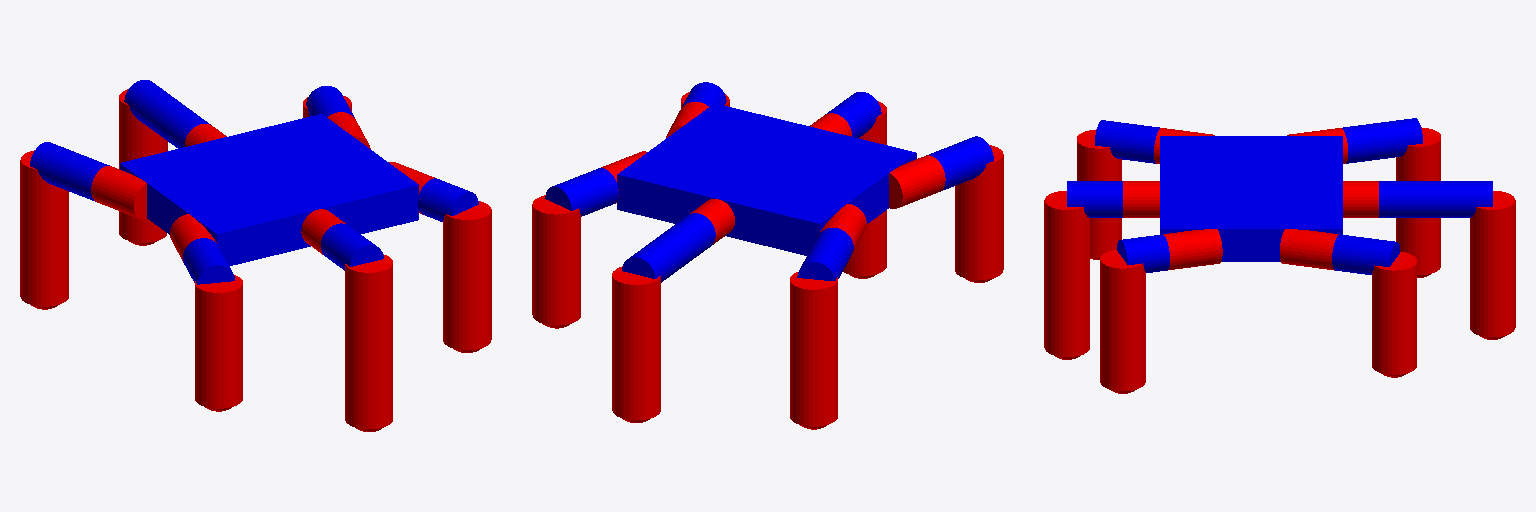
--- Facts derived from the render (not from the file) ---
Views: 3 orthographic renders of the robot side by side, from view 1: azimuth 30°, elevation 25°; view 2: azimuth 150°, elevation 25°; view 3: azimuth 270°, elevation 25°.
Model pexod with 19 links and 18 joints (18 revolute), rooted at base_link, posed all joints at 0.
Visible links, largest first — view 1: base_link, leg_4_3, leg_3_3, leg_0_3, leg_5_3, leg_1_3, leg_1_2, leg_0_2, leg_0_1, leg_4_2, leg_3_2, leg_5_2 (+5 smaller); view 2: base_link, leg_1_3, leg_0_3, leg_2_3, leg_5_3, leg_1_2, leg_4_3, leg_2_2, leg_5_1, leg_0_2, leg_5_2, leg_4_2 (+5 smaller); view 3: base_link, leg_4_3, leg_1_3, leg_3_3, leg_2_3, leg_1_2, leg_0_3, leg_5_3, leg_0_2, leg_2_2, leg_5_2, leg_3_1 (+5 smaller).
Link boxes in pixels (x1,y1,x2,y2): base_link: (120,114,418,265); leg_4_3: (345,254,392,431); leg_3_3: (443,201,491,352); leg_0_3: (20,150,68,309); leg_5_3: (195,275,242,411); leg_1_3: (119,89,167,245); leg_1_2: (124,80,210,148); leg_0_2: (30,142,109,201); leg_0_1: (91,166,146,219); leg_4_2: (321,223,383,270); leg_3_2: (418,178,478,221); leg_5_2: (183,238,234,284); base_link: (617,103,916,255); leg_1_3: (612,266,660,422); leg_0_3: (790,272,837,429); leg_2_3: (532,195,580,328); leg_5_3: (955,145,1003,282); leg_1_2: (622,213,715,282); leg_4_3: (843,101,886,278); leg_2_2: (545,168,618,216); leg_5_1: (889,155,945,208); leg_0_2: (797,228,853,280); leg_5_2: (926,136,993,191); leg_4_2: (825,92,881,137); base_link: (1160,136,1342,261); leg_4_3: (1044,191,1089,359); leg_1_3: (1470,191,1515,339); leg_3_3: (1100,250,1145,393); leg_2_3: (1372,252,1416,377); leg_1_2: (1379,181,1492,217); leg_0_3: (1396,127,1440,277); leg_5_3: (1077,129,1121,259); leg_0_2: (1342,118,1422,163); leg_2_2: (1332,234,1399,274); leg_5_2: (1095,120,1159,163); leg_3_1: (1163,229,1222,270).
Bounding box of the posed robot: 0.37 × 0.5146 × 0.2101 m (x, y, z).
Geometry: primitives only (box / cylinder / sphere), no mesh files.

robot.urdf — pexod:
<?xml version="1.0" ?>
<!-- =================================================================================== -->
<!-- |    This document was autogenerated by xacro from pexod.xacro                    | -->
<!-- |    EDITING THIS FILE BY HAND IS NOT RECOMMENDED                                 | -->
<!-- =================================================================================== -->
<robot name="pexod" xmlns:xacro="http://www.ros.org/wiki/xacro">
  <!-- <xacro:include filename="$(find pexod_description)/urdf/pexod_control.xacro" /> -->
  <!-- MATERIALS -->
  <material name="Blue">
    <color rgba="0 0 1 1"/>
  </material>
  <material name="Red">
    <color rgba="1 0 0 1"/>
  </material>
  <material name="Green">
    <color rgba="0 1 0 1"/>
  </material>
  <material name="Yellow">
    <color rgba="1 1 0 1"/>
  </material>
  <material name="LightGrey">
    <color rgba="0.6 0.6 0.6 1.0"/>
  </material>
  <!-- END OF MATERIALS -->
  <!-- XACRO MACROS FOR VISUALS AND COLLISIONS -->
  <!-- END OF XACRO MACROS -->
  <!-- TORSO -->
  <link name="base_link">
    <visual>
      <origin rpy="0 0 0" xyz="0 0 0"/>
      <geometry>
        <box size="0.24 0.2 0.04"/>
      </geometry>
      <material name="Blue"/>
    </visual>
    <collision>
      <origin rpy="0 0 0" xyz="0 0 0"/>
      <geometry>
        <box size="0.24 0.2 0.04"/>
      </geometry>
    </collision>
    <inertial>
      <!-- CENTER OF MASS -->
      <origin rpy="0 0 0" xyz="0 0 0"/>
      <mass value="1.031"/>
      <!-- box inertia: 1/12*m(y^2+z^2), ... -->
      <inertia ixx="0.00357413333333" ixy="0" ixz="0" iyy="0.00508626666667" iyz="0" izz="0.00838546666667"/>
    </inertial>
  </link>
  <!-- XACRO MACRO FOR LEGS LINKS/JOINTS -->
  <!-- END OF LEG LINKS/JOINTS -->
  <joint name="body_leg_2" type="revolute">
    <parent link="base_link"/>
    <child link="leg_2_1"/>
    <limit effort="30.0" lower="-1.57079632679" upper="1.57079632679" velocity="7.0"/>
    <origin rpy="0 0 -0.3" xyz="0.11 0.04 0"/>
    <!-- <xacro:if value="${index == 5 or index == 4 or index == 3}">
                <axis xyz="0 0 1"/>
            </xacro:if>
            <xacro:if value="${index == 2 or index == 1 or index == 0}"> -->
    <axis xyz="0 0 1"/>
    <!-- </xacro:if> -->
    <dynamics damping="0.0"/>
  </joint>
  <link name="leg_2_1">
    <visual>
      <origin rpy="1.57079632679 0 0" xyz="0.01 0.03 0"/>
      <geometry>
        <cylinder length="0.06" radius="0.02"/>
      </geometry>
      <material name="Red"/>
    </visual>
    <collision>
      <origin rpy="1.57079632679 0 0" xyz="0.01 0.03 0"/>
      <geometry>
        <box size="0.02 0.02 0.06"/>
      </geometry>
    </collision>
    <inertial>
      <!-- CENTER OF MASS -->
      <origin rpy="1.57079632679 0 0" xyz="0.01 0.03 0"/>
      <mass value="0.02"/>
      <!-- box inertia: 1/12*m(y^2+z^2), ... -->
      <inertia ixx="6.66666666667e-06" ixy="0" ixz="0" iyy="6.66666666667e-06" iyz="0" izz="1.33333333333e-06"/>
    </inertial>
  </link>
  <joint name="leg_2_1_2" type="revolute">
    <parent link="leg_2_1"/>
    <child link="leg_2_2"/>
    <limit effort="30.0" lower="-0.78539816339" upper="0.78539816339" velocity="7.0"/>
    <origin rpy="0 0 0" xyz="0 0.06 0"/>
    <axis xyz="1 0 0"/>
    <dynamics damping="0.0"/>
  </joint>
  <link name="leg_2_2">
    <visual>
      <origin rpy="1.57079632679 0 0" xyz="0.01 0.0328906883471 0"/>
      <geometry>
        <cylinder length="0.0657813766942" radius="0.02"/>
      </geometry>
      <material name="Blue"/>
    </visual>
    <collision>
      <origin rpy="1.57079632679 0 0" xyz="0.01 0.0328906883471 0"/>
      <geometry>
        <box size="0.02 0.02 0.0657813766942"/>
      </geometry>
    </collision>
    <inertial>
      <!-- CENTER OF MASS -->
      <origin rpy="1.57079632679 0 0" xyz="0.01 0.0328906883471 0"/>
      <mass value="0.184"/>
      <!-- box inertia: 1/12*m(y^2+z^2), ... -->
      <inertia ixx="7.24835726367e-05" ixy="0" ixz="0" iyy="7.24835726367e-05" iyz="0" izz="1.22666666667e-05"/>
    </inertial>
  </link>
  <joint name="leg_2_2_3" type="revolute">
    <parent link="leg_2_2"/>
    <child link="leg_2_3"/>
    <limit effort="30.0" lower="-0.78539816339" upper="0.78539816339" velocity="7.0"/>
    <origin rpy="-1.57079632679 0 0" xyz="0 0.0657813766942 0"/>
    <axis xyz="-1 0 0"/>
    <dynamics damping="0.0"/>
  </joint>
  <link name="leg_2_3">
    <visual>
      <origin rpy="1.57079632679 0 0" xyz="0.0125 0.062939598653 0"/>
      <geometry>
        <cylinder length="0.125879197306" radius="0.025"/>
      </geometry>
      <material name="Red"/>
    </visual>
    <visual>
      <origin rpy="1.57079632679 0 0" xyz="0.0125 0.113379197306 0"/>
      <geometry>
        <sphere radius="0.025"/>
      </geometry>
      <material name="Red"/>
    </visual>
    <collision>
      <origin rpy="1.57079632679 0 0" xyz="0.0125 0.062939598653 0"/>
      <geometry>
        <box size="0.025 0.025 0.125879197306"/>
      </geometry>
    </collision>
    <collision>
      <origin rpy="1.57079632679 0 0" xyz="0.0125 0.113379197306 0"/>
      <geometry>
        <sphere radius="0.025"/>
      </geometry>
      <material name="Red"/>
    </collision>
    <inertial>
      <!-- CENTER OF MASS -->
      <origin rpy="1.57079632679 0 0" xyz="0.0125 0.062939598653 0"/>
      <mass value="0.04"/>
      <!-- box inertia: 1/12*m(y^2+z^2), ... -->
      <inertia ixx="5.49019077147e-05" ixy="0" ixz="0" iyy="5.49019077147e-05" iyz="0" izz="4.16666666667e-06"/>
    </inertial>
  </link>
  <joint name="body_leg_3" type="revolute">
    <parent link="base_link"/>
    <child link="leg_3_1"/>
    <limit effort="30.0" lower="-1.57079632679" upper="1.57079632679" velocity="7.0"/>
    <origin rpy="0 0 0.3" xyz="0.11 -0.04 0"/>
    <!-- <xacro:if value="${index == 5 or index == 4 or index == 3}">
                <axis xyz="0 0 1"/>
            </xacro:if>
            <xacro:if value="${index == 2 or index == 1 or index == 0}"> -->
    <axis xyz="0 0 1"/>
    <!-- </xacro:if> -->
    <dynamics damping="0.0"/>
  </joint>
  <link name="leg_3_1">
    <visual>
      <origin rpy="1.57079632679 0 0" xyz="0.01 -0.03 0"/>
      <geometry>
        <cylinder length="0.06" radius="0.02"/>
      </geometry>
      <material name="Red"/>
    </visual>
    <collision>
      <origin rpy="1.57079632679 0 0" xyz="0.01 -0.03 0"/>
      <geometry>
        <box size="0.02 0.02 0.06"/>
      </geometry>
    </collision>
    <inertial>
      <!-- CENTER OF MASS -->
      <origin rpy="1.57079632679 0 0" xyz="0.01 -0.03 0"/>
      <mass value="0.02"/>
      <!-- box inertia: 1/12*m(y^2+z^2), ... -->
      <inertia ixx="6.66666666667e-06" ixy="0" ixz="0" iyy="6.66666666667e-06" iyz="0" izz="1.33333333333e-06"/>
    </inertial>
  </link>
  <joint name="leg_3_1_2" type="revolute">
    <parent link="leg_3_1"/>
    <child link="leg_3_2"/>
    <limit effort="30.0" lower="-0.78539816339" upper="0.78539816339" velocity="7.0"/>
    <origin rpy="0 0 0" xyz="0 -0.06 0"/>
    <axis xyz="-1 0 0"/>
    <dynamics damping="0.0"/>
  </joint>
  <link name="leg_3_2">
    <visual>
      <origin rpy="1.57079632679 0 0" xyz="0.01 -0.02420674394 0"/>
      <geometry>
        <cylinder length="0.0484134878801" radius="0.02"/>
      </geometry>
      <material name="Blue"/>
    </visual>
    <collision>
      <origin rpy="1.57079632679 0 0" xyz="0.01 -0.02420674394 0"/>
      <geometry>
        <box size="0.02 0.02 0.0484134878801"/>
      </geometry>
    </collision>
    <inertial>
      <!-- CENTER OF MASS -->
      <origin rpy="1.57079632679 0 0" xyz="0.01 -0.02420674394 0"/>
      <mass value="0.184"/>
      <!-- box inertia: 1/12*m(y^2+z^2), ... -->
      <inertia ixx="4.2072609067e-05" ixy="0" ixz="0" iyy="4.2072609067e-05" iyz="0" izz="1.22666666667e-05"/>
    </inertial>
  </link>
  <joint name="leg_3_2_3" type="revolute">
    <parent link="leg_3_2"/>
    <child link="leg_3_3"/>
    <limit effort="30.0" lower="-0.78539816339" upper="0.78539816339" velocity="7.0"/>
    <origin rpy="1.57079632679 0 0" xyz="0 -0.0484134878801 0"/>
    <axis xyz="1 0 0"/>
    <dynamics damping="0.0"/>
  </joint>
  <link name="leg_3_3">
    <visual>
      <origin rpy="1.57079632679 0 0" xyz="0.0125 -0.073912159119 0"/>
      <geometry>
        <cylinder length="0.147824318238" radius="0.025"/>
      </geometry>
      <material name="Red"/>
    </visual>
    <visual>
      <origin rpy="1.57079632679 0 0" xyz="0.0125 -0.135324318238 0"/>
      <geometry>
        <sphere radius="0.025"/>
      </geometry>
      <material name="Red"/>
    </visual>
    <collision>
      <origin rpy="1.57079632679 0 0" xyz="0.0125 -0.073912159119 0"/>
      <geometry>
        <box size="0.025 0.025 0.147824318238"/>
      </geometry>
    </collision>
    <collision>
      <origin rpy="1.57079632679 0 0" xyz="0.0125 -0.135324318238 0"/>
      <geometry>
        <sphere radius="0.025"/>
      </geometry>
      <material name="Red"/>
    </collision>
    <inertial>
      <!-- CENTER OF MASS -->
      <origin rpy="1.57079632679 0 0" xyz="0.0125 -0.073912159119 0"/>
      <mass value="0.04"/>
      <!-- box inertia: 1/12*m(y^2+z^2), ... -->
      <inertia ixx="7.49234302084e-05" ixy="0" ixz="0" iyy="7.49234302084e-05" iyz="0" izz="4.16666666667e-06"/>
    </inertial>
  </link>
  <joint name="body_leg_0" type="revolute">
    <parent link="base_link"/>
    <child link="leg_0_1"/>
    <limit effort="30.0" lower="-1.57079632679" upper="1.57079632679" velocity="7.0"/>
    <origin rpy="0 0 0.3" xyz="-0.13 0.04 0"/>
    <!-- <xacro:if value="${index == 5 or index == 4 or index == 3}">
                <axis xyz="0 0 1"/>
            </xacro:if>
            <xacro:if value="${index == 2 or index == 1 or index == 0}"> -->
    <axis xyz="0 0 1"/>
    <!-- </xacro:if> -->
    <dynamics damping="0.0"/>
  </joint>
  <link name="leg_0_1">
    <visual>
      <origin rpy="1.57079632679 0 0" xyz="0.01 0.03 0"/>
      <geometry>
        <cylinder length="0.06" radius="0.02"/>
      </geometry>
      <material name="Red"/>
    </visual>
    <collision>
      <origin rpy="1.57079632679 0 0" xyz="0.01 0.03 0"/>
      <geometry>
        <box size="0.02 0.02 0.06"/>
      </geometry>
    </collision>
    <inertial>
      <!-- CENTER OF MASS -->
      <origin rpy="1.57079632679 0 0" xyz="0.01 0.03 0"/>
      <mass value="0.02"/>
      <!-- box inertia: 1/12*m(y^2+z^2), ... -->
      <inertia ixx="6.66666666667e-06" ixy="0" ixz="0" iyy="6.66666666667e-06" iyz="0" izz="1.33333333333e-06"/>
    </inertial>
  </link>
  <joint name="leg_0_1_2" type="revolute">
    <parent link="leg_0_1"/>
    <child link="leg_0_2"/>
    <limit effort="30.0" lower="-0.78539816339" upper="0.78539816339" velocity="7.0"/>
    <origin rpy="0 0 0" xyz="0 0.06 0"/>
    <axis xyz="1 0 0"/>
    <dynamics damping="0.0"/>
  </joint>
  <link name="leg_0_2">
    <visual>
      <origin rpy="1.57079632679 0 0" xyz="0.01 0.042834504457 0"/>
      <geometry>
        <cylinder length="0.0856690089141" radius="0.02"/>
      </geometry>
      <material name="Blue"/>
    </visual>
    <collision>
      <origin rpy="1.57079632679 0 0" xyz="0.01 0.042834504457 0"/>
      <geometry>
        <box size="0.02 0.02 0.0856690089141"/>
      </geometry>
    </collision>
    <inertial>
      <!-- CENTER OF MASS -->
      <origin rpy="1.57079632679 0 0" xyz="0.01 0.042834504457 0"/>
      <mass value="0.184"/>
      <!-- box inertia: 1/12*m(y^2+z^2), ... -->
      <inertia ixx="0.000118667412688" ixy="0" ixz="0" iyy="0.000118667412688" iyz="0" izz="1.22666666667e-05"/>
    </inertial>
  </link>
  <joint name="leg_0_2_3" type="revolute">
    <parent link="leg_0_2"/>
    <child link="leg_0_3"/>
    <limit effort="30.0" lower="-0.78539816339" upper="0.78539816339" velocity="7.0"/>
    <origin rpy="-1.57079632679 0 0" xyz="0 0.0856690089141 0"/>
    <axis xyz="-1 0 0"/>
    <dynamics damping="0.0"/>
  </joint>
  <link name="leg_0_3">
    <visual>
      <origin rpy="1.57079632679 0 0" xyz="0.0125 0.0775910307365 0"/>
      <geometry>
        <cylinder length="0.155182061473" radius="0.025"/>
      </geometry>
      <material name="Red"/>
    </visual>
    <visual>
      <origin rpy="1.57079632679 0 0" xyz="0.0125 0.142682061473 0"/>
      <geometry>
        <sphere radius="0.025"/>
      </geometry>
      <material name="Red"/>
    </visual>
    <collision>
      <origin rpy="1.57079632679 0 0" xyz="0.0125 0.0775910307365 0"/>
      <geometry>
        <box size="0.025 0.025 0.155182061473"/>
      </geometry>
    </collision>
    <collision>
      <origin rpy="1.57079632679 0 0" xyz="0.0125 0.142682061473 0"/>
      <geometry>
        <sphere radius="0.025"/>
      </geometry>
      <material name="Red"/>
    </collision>
    <inertial>
      <!-- CENTER OF MASS -->
      <origin rpy="1.57079632679 0 0" xyz="0.0125 0.0775910307365 0"/>
      <mass value="0.04"/>
      <!-- box inertia: 1/12*m(y^2+z^2), ... -->
      <inertia ixx="8.23549073434e-05" ixy="0" ixz="0" iyy="8.23549073434e-05" iyz="0" izz="4.16666666667e-06"/>
    </inertial>
  </link>
  <joint name="body_leg_5" type="revolute">
    <parent link="base_link"/>
    <child link="leg_5_1"/>
    <limit effort="30.0" lower="-1.57079632679" upper="1.57079632679" velocity="7.0"/>
    <origin rpy="0 0 -0.3" xyz="-0.13 -0.04 0"/>
    <!-- <xacro:if value="${index == 5 or index == 4 or index == 3}">
                <axis xyz="0 0 1"/>
            </xacro:if>
            <xacro:if value="${index == 2 or index == 1 or index == 0}"> -->
    <axis xyz="0 0 1"/>
    <!-- </xacro:if> -->
    <dynamics damping="0.0"/>
  </joint>
  <link name="leg_5_1">
    <visual>
      <origin rpy="1.57079632679 0 0" xyz="0.01 -0.03 0"/>
      <geometry>
        <cylinder length="0.06" radius="0.02"/>
      </geometry>
      <material name="Red"/>
    </visual>
    <collision>
      <origin rpy="1.57079632679 0 0" xyz="0.01 -0.03 0"/>
      <geometry>
        <box size="0.02 0.02 0.06"/>
      </geometry>
    </collision>
    <inertial>
      <!-- CENTER OF MASS -->
      <origin rpy="1.57079632679 0 0" xyz="0.01 -0.03 0"/>
      <mass value="0.02"/>
      <!-- box inertia: 1/12*m(y^2+z^2), ... -->
      <inertia ixx="6.66666666667e-06" ixy="0" ixz="0" iyy="6.66666666667e-06" iyz="0" izz="1.33333333333e-06"/>
    </inertial>
  </link>
  <joint name="leg_5_1_2" type="revolute">
    <parent link="leg_5_1"/>
    <child link="leg_5_2"/>
    <limit effort="30.0" lower="-0.78539816339" upper="0.78539816339" velocity="7.0"/>
    <origin rpy="0 0 0" xyz="0 -0.06 0"/>
    <axis xyz="-1 0 0"/>
    <dynamics damping="0.0"/>
  </joint>
  <link name="leg_5_2">
    <visual>
      <origin rpy="1.57079632679 0 0" xyz="0.01 -0.0339396312866 0"/>
      <geometry>
        <cylinder length="0.0678792625732" radius="0.02"/>
      </geometry>
      <material name="Blue"/>
    </visual>
    <collision>
      <origin rpy="1.57079632679 0 0" xyz="0.01 -0.0339396312866 0"/>
      <geometry>
        <box size="0.02 0.02 0.0678792625732"/>
      </geometry>
    </collision>
    <inertial>
      <!-- CENTER OF MASS -->
      <origin rpy="1.57079632679 0 0" xyz="0.01 -0.0339396312866 0"/>
      <mass value="0.184"/>
      <!-- box inertia: 1/12*m(y^2+z^2), ... -->
      <inertia ixx="7.6783112408e-05" ixy="0" ixz="0" iyy="7.6783112408e-05" iyz="0" izz="1.22666666667e-05"/>
    </inertial>
  </link>
  <joint name="leg_5_2_3" type="revolute">
    <parent link="leg_5_2"/>
    <child link="leg_5_3"/>
    <limit effort="30.0" lower="-0.78539816339" upper="0.78539816339" velocity="7.0"/>
    <origin rpy="1.57079632679 0 0" xyz="0 -0.0678792625732 0"/>
    <axis xyz="1 0 0"/>
    <dynamics damping="0.0"/>
  </joint>
  <link name="leg_5_3">
    <visual>
      <origin rpy="1.57079632679 0 0" xyz="0.0125 -0.0656349313165 0"/>
      <geometry>
        <cylinder length="0.131269862633" radius="0.025"/>
      </geometry>
      <material name="Red"/>
    </visual>
    <visual>
      <origin rpy="1.57079632679 0 0" xyz="0.0125 -0.118769862633 0"/>
      <geometry>
        <sphere radius="0.025"/>
      </geometry>
      <material name="Red"/>
    </visual>
    <collision>
      <origin rpy="1.57079632679 0 0" xyz="0.0125 -0.0656349313165 0"/>
      <geometry>
        <box size="0.025 0.025 0.131269862633"/>
      </geometry>
    </collision>
    <collision>
      <origin rpy="1.57079632679 0 0" xyz="0.0125 -0.118769862633 0"/>
      <geometry>
        <sphere radius="0.025"/>
      </geometry>
      <material name="Red"/>
    </collision>
    <inertial>
      <!-- CENTER OF MASS -->
      <origin rpy="1.57079632679 0 0" xyz="0.0125 -0.0656349313165 0"/>
      <mass value="0.04"/>
      <!-- box inertia: 1/12*m(y^2+z^2), ... -->
      <inertia ixx="5.95225894523e-05" ixy="0" ixz="0" iyy="5.95225894523e-05" iyz="0" izz="4.16666666667e-06"/>
    </inertial>
  </link>
  <joint name="body_leg_1" type="revolute">
    <parent link="base_link"/>
    <child link="leg_1_1"/>
    <limit effort="30.0" lower="-1.57079632679" upper="1.57079632679" velocity="7.0"/>
    <origin rpy="0 0 0" xyz="-0.01 0.08 0"/>
    <!-- <xacro:if value="${index == 5 or index == 4 or index == 3}">
                <axis xyz="0 0 1"/>
            </xacro:if>
            <xacro:if value="${index == 2 or index == 1 or index == 0}"> -->
    <axis xyz="0 0 1"/>
    <!-- </xacro:if> -->
    <dynamics damping="0.0"/>
  </joint>
  <link name="leg_1_1">
    <visual>
      <origin rpy="1.57079632679 0 0" xyz="0.01 0.03 0"/>
      <geometry>
        <cylinder length="0.06" radius="0.02"/>
      </geometry>
      <material name="Red"/>
    </visual>
    <collision>
      <origin rpy="1.57079632679 0 0" xyz="0.01 0.03 0"/>
      <geometry>
        <box size="0.02 0.02 0.06"/>
      </geometry>
    </collision>
    <inertial>
      <!-- CENTER OF MASS -->
      <origin rpy="1.57079632679 0 0" xyz="0.01 0.03 0"/>
      <mass value="0.02"/>
      <!-- box inertia: 1/12*m(y^2+z^2), ... -->
      <inertia ixx="6.66666666667e-06" ixy="0" ixz="0" iyy="6.66666666667e-06" iyz="0" izz="1.33333333333e-06"/>
    </inertial>
  </link>
  <joint name="leg_1_1_2" type="revolute">
    <parent link="leg_1_1"/>
    <child link="leg_1_2"/>
    <limit effort="30.0" lower="-0.78539816339" upper="0.78539816339" velocity="7.0"/>
    <origin rpy="0 0 0" xyz="0 0.06 0"/>
    <axis xyz="1 0 0"/>
    <dynamics damping="0.0"/>
  </joint>
  <link name="leg_1_2">
    <visual>
      <origin rpy="1.57079632679 0 0" xyz="0.01 0.0618991134775 0"/>
      <geometry>
        <cylinder length="0.123798226955" radius="0.02"/>
      </geometry>
      <material name="Blue"/>
    </visual>
    <collision>
      <origin rpy="1.57079632679 0 0" xyz="0.01 0.0618991134775 0"/>
      <geometry>
        <box size="0.02 0.02 0.123798226955"/>
      </geometry>
    </collision>
    <inertial>
      <!-- CENTER OF MASS -->
      <origin rpy="1.57079632679 0 0" xyz="0.01 0.0618991134775 0"/>
      <mass value="0.184"/>
      <!-- box inertia: 1/12*m(y^2+z^2), ... -->
      <inertia ixx="0.00024113201529" ixy="0" ixz="0" iyy="0.00024113201529" iyz="0" izz="1.22666666667e-05"/>
    </inertial>
  </link>
  <joint name="leg_1_2_3" type="revolute">
    <parent link="leg_1_2"/>
    <child link="leg_1_3"/>
    <limit effort="30.0" lower="-0.78539816339" upper="0.78539816339" velocity="7.0"/>
    <origin rpy="-1.57079632679 0 0" xyz="0 0.123798226955 0"/>
    <axis xyz="-1 0 0"/>
    <dynamics damping="0.0"/>
  </joint>
  <link name="leg_1_3">
    <visual>
      <origin rpy="1.57079632679 0 0" xyz="0.0125 0.076799281896 0"/>
      <geometry>
        <cylinder length="0.153598563792" radius="0.025"/>
      </geometry>
      <material name="Red"/>
    </visual>
    <visual>
      <origin rpy="1.57079632679 0 0" xyz="0.0125 0.141098563792 0"/>
      <geometry>
        <sphere radius="0.025"/>
      </geometry>
      <material name="Red"/>
    </visual>
    <collision>
      <origin rpy="1.57079632679 0 0" xyz="0.0125 0.076799281896 0"/>
      <geometry>
        <box size="0.025 0.025 0.153598563792"/>
      </geometry>
    </collision>
    <collision>
      <origin rpy="1.57079632679 0 0" xyz="0.0125 0.141098563792 0"/>
      <geometry>
        <sphere radius="0.025"/>
      </geometry>
      <material name="Red"/>
    </collision>
    <inertial>
      <!-- CENTER OF MASS -->
      <origin rpy="1.57079632679 0 0" xyz="0.0125 0.076799281896 0"/>
      <mass value="0.04"/>
      <!-- box inertia: 1/12*m(y^2+z^2), ... -->
      <inertia ixx="8.07250626632e-05" ixy="0" ixz="0" iyy="8.07250626632e-05" iyz="0" izz="4.16666666667e-06"/>
    </inertial>
  </link>
  <joint name="body_leg_4" type="revolute">
    <parent link="base_link"/>
    <child link="leg_4_1"/>
    <limit effort="30.0" lower="-1.57079632679" upper="1.57079632679" velocity="7.0"/>
    <origin rpy="0 0 0" xyz="-0.01 -0.08 0"/>
    <!-- <xacro:if value="${index == 5 or index == 4 or index == 3}">
                <axis xyz="0 0 1"/>
            </xacro:if>
            <xacro:if value="${index == 2 or index == 1 or index == 0}"> -->
    <axis xyz="0 0 1"/>
    <!-- </xacro:if> -->
    <dynamics damping="0.0"/>
  </joint>
  <link name="leg_4_1">
    <visual>
      <origin rpy="1.57079632679 0 0" xyz="0.01 -0.03 0"/>
      <geometry>
        <cylinder length="0.06" radius="0.02"/>
      </geometry>
      <material name="Red"/>
    </visual>
    <collision>
      <origin rpy="1.57079632679 0 0" xyz="0.01 -0.03 0"/>
      <geometry>
        <box size="0.02 0.02 0.06"/>
      </geometry>
    </collision>
    <inertial>
      <!-- CENTER OF MASS -->
      <origin rpy="1.57079632679 0 0" xyz="0.01 -0.03 0"/>
      <mass value="0.02"/>
      <!-- box inertia: 1/12*m(y^2+z^2), ... -->
      <inertia ixx="6.66666666667e-06" ixy="0" ixz="0" iyy="6.66666666667e-06" iyz="0" izz="1.33333333333e-06"/>
    </inertial>
  </link>
  <joint name="leg_4_1_2" type="revolute">
    <parent link="leg_4_1"/>
    <child link="leg_4_2"/>
    <limit effort="30.0" lower="-0.78539816339" upper="0.78539816339" velocity="7.0"/>
    <origin rpy="0 0 0" xyz="0 -0.06 0"/>
    <axis xyz="-1 0 0"/>
    <dynamics damping="0.0"/>
  </joint>
  <link name="leg_4_2">
    <visual>
      <origin rpy="1.57079632679 0 0" xyz="0.01 -0.0303798334909 0"/>
      <geometry>
        <cylinder length="0.0607596669817" radius="0.02"/>
      </geometry>
      <material name="Blue"/>
    </visual>
    <collision>
      <origin rpy="1.57079632679 0 0" xyz="0.01 -0.0303798334909 0"/>
      <geometry>
        <box size="0.02 0.02 0.0607596669817"/>
      </geometry>
    </collision>
    <inertial>
      <!-- CENTER OF MASS -->
      <origin rpy="1.57079632679 0 0" xyz="0.01 -0.0303798334909 0"/>
      <mass value="0.184"/>
      <!-- box inertia: 1/12*m(y^2+z^2), ... -->
      <inertia ixx="6.27399693531e-05" ixy="0" ixz="0" iyy="6.27399693531e-05" iyz="0" izz="1.22666666667e-05"/>
    </inertial>
  </link>
  <joint name="leg_4_2_3" type="revolute">
    <parent link="leg_4_2"/>
    <child link="leg_4_3"/>
    <limit effort="30.0" lower="-0.78539816339" upper="0.78539816339" velocity="7.0"/>
    <origin rpy="1.57079632679 0 0" xyz="0 -0.0607596669817 0"/>
    <axis xyz="1 0 0"/>
    <dynamics damping="0.0"/>
  </joint>
  <link name="leg_4_3">
    <visual>
      <origin rpy="1.57079632679 0 0" xyz="0.0125 -0.0887845622775 0"/>
      <geometry>
        <cylinder length="0.177569124555" radius="0.025"/>
      </geometry>
      <material name="Red"/>
    </visual>
    <visual>
      <origin rpy="1.57079632679 0 0" xyz="0.0125 -0.165069124555 0"/>
      <geometry>
        <sphere radius="0.025"/>
      </geometry>
      <material name="Red"/>
    </visual>
    <collision>
      <origin rpy="1.57079632679 0 0" xyz="0.0125 -0.0887845622775 0"/>
      <geometry>
        <box size="0.025 0.025 0.177569124555"/>
      </geometry>
    </collision>
    <collision>
      <origin rpy="1.57079632679 0 0" xyz="0.0125 -0.165069124555 0"/>
      <geometry>
        <sphere radius="0.025"/>
      </geometry>
      <material name="Red"/>
    </collision>
    <inertial>
      <!-- CENTER OF MASS -->
      <origin rpy="1.57079632679 0 0" xyz="0.0125 -0.0887845622775 0"/>
      <mass value="0.04"/>
      <!-- box inertia: 1/12*m(y^2+z^2), ... -->
      <inertia ixx="0.000107185979984" ixy="0" ixz="0" iyy="0.000107185979984" iyz="0" izz="4.16666666667e-06"/>
    </inertial>
  </link>
  <!-- END OF LEG LINKS/JOINTS -->
</robot>
